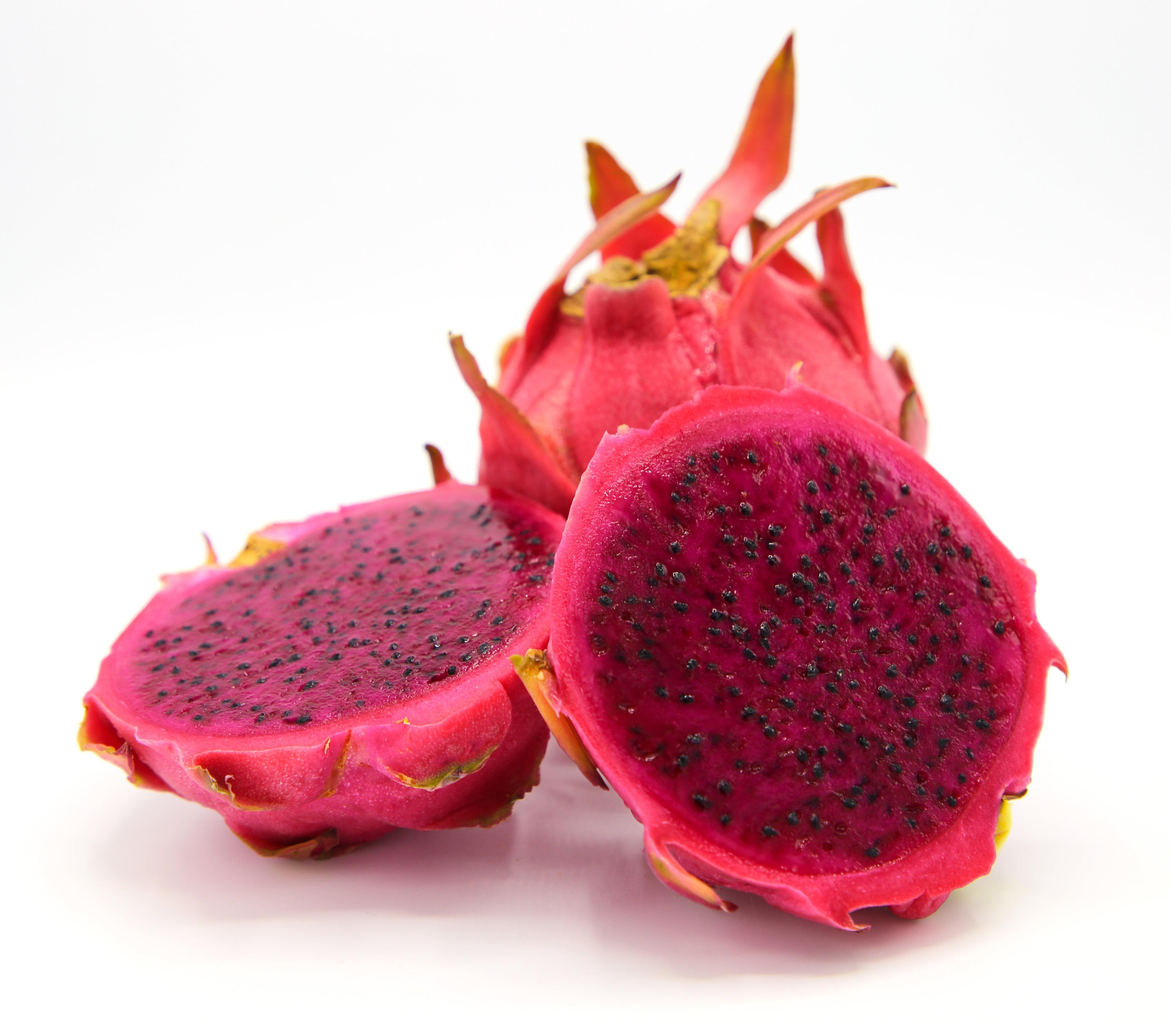dragon-fruit: (544, 381, 1053, 918), (80, 476, 569, 860), (476, 245, 927, 518)
